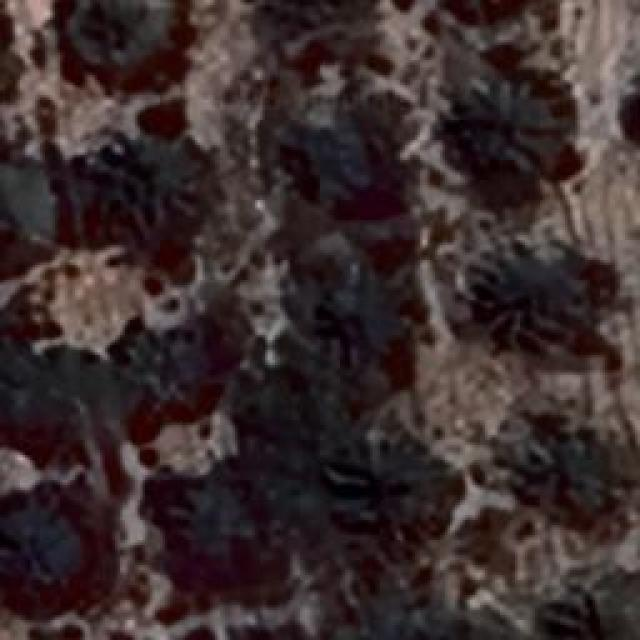PalmTree: (50, 52, 594, 614), (308, 441, 442, 541), (282, 105, 386, 217), (276, 258, 389, 360), (452, 70, 568, 168), (478, 251, 580, 354), (524, 432, 608, 548), (154, 485, 258, 570), (94, 141, 178, 239), (0, 334, 58, 462), (138, 337, 212, 425), (84, 0, 156, 80), (266, 0, 376, 51), (0, 183, 42, 278), (336, 611, 464, 640), (431, 0, 534, 25)
